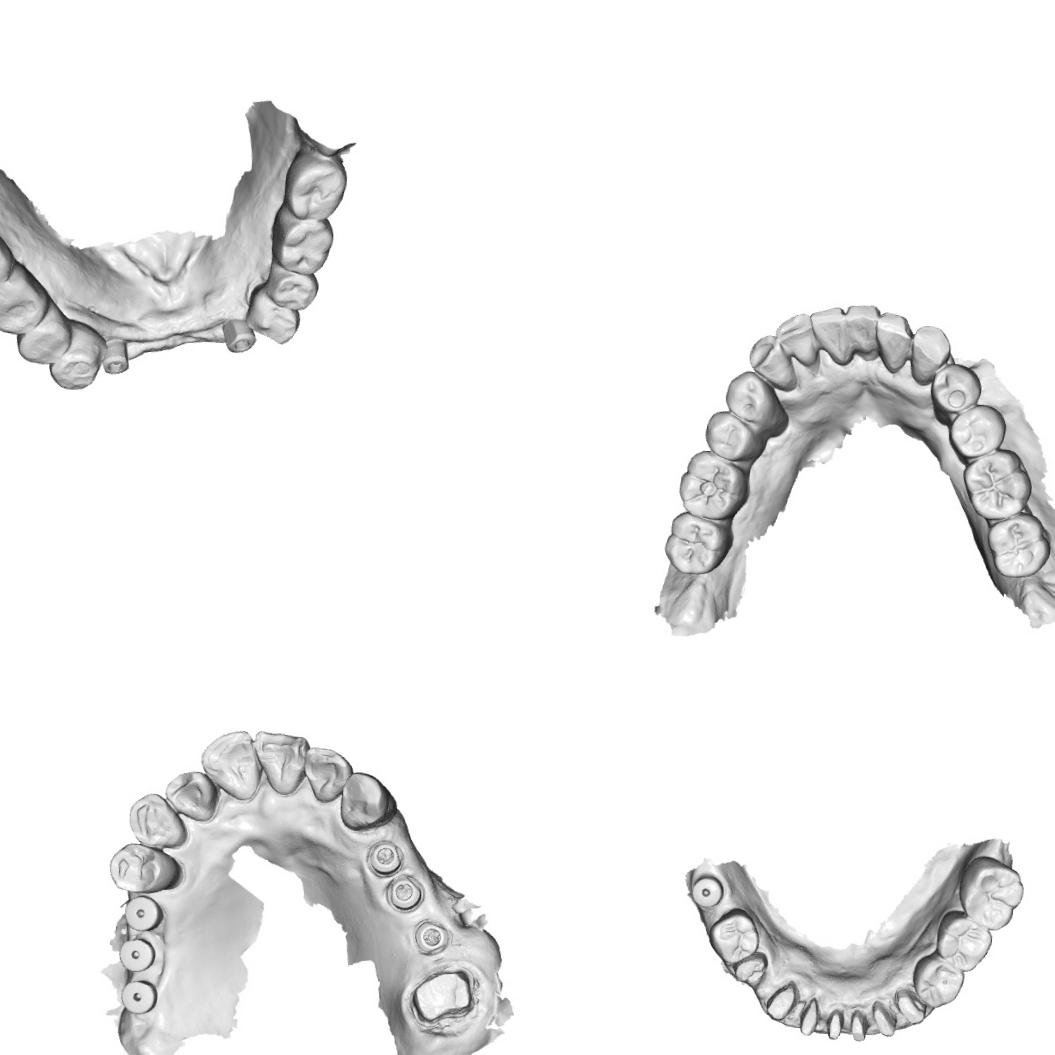canine: (124, 789, 192, 851), (336, 769, 399, 835), (746, 332, 800, 392), (906, 324, 952, 386)
crown: (405, 962, 478, 1030), (762, 980, 798, 1022), (892, 985, 927, 1025), (868, 998, 897, 1037), (797, 994, 821, 1037), (845, 1006, 870, 1042), (823, 1006, 845, 1042)
implant: (364, 837, 405, 878), (122, 892, 164, 932), (116, 934, 156, 974), (219, 314, 258, 354), (385, 872, 424, 912), (117, 977, 158, 1015), (412, 917, 450, 956), (100, 334, 131, 376), (688, 873, 725, 908)
incisor: (197, 725, 265, 801), (250, 729, 311, 798), (160, 767, 221, 824), (299, 744, 355, 805), (806, 304, 856, 366), (870, 310, 914, 374), (772, 310, 820, 368), (842, 302, 880, 361)
molar: (959, 444, 1034, 524), (674, 448, 752, 522), (954, 853, 1026, 933), (280, 147, 350, 222), (268, 204, 338, 276), (984, 509, 1052, 580), (662, 509, 734, 576), (933, 907, 994, 974), (0, 259, 53, 336), (0, 214, 16, 295)
premolar: (722, 368, 792, 438), (106, 838, 186, 898), (46, 318, 105, 392), (946, 401, 1007, 465), (243, 282, 302, 346), (926, 361, 982, 428), (15, 300, 72, 365), (705, 904, 762, 964), (702, 408, 764, 463), (909, 952, 966, 1011), (262, 261, 320, 312)
